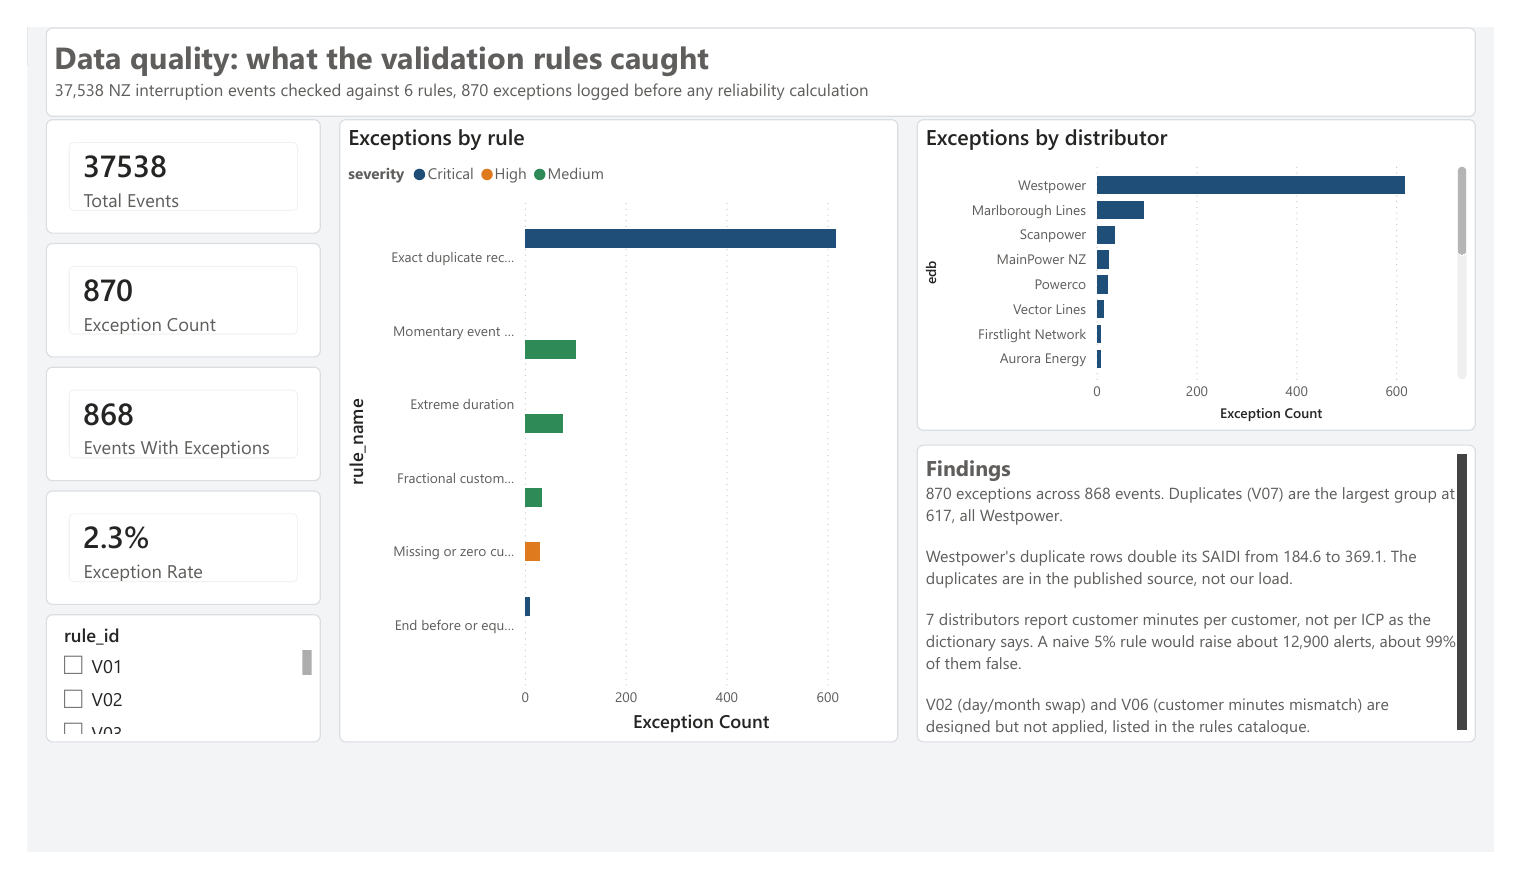

What the dashboard file says about the page in this screenshot:
{"tool":"powerbi","page":{"name":"Data Quality","canvas":[1280,720],"ordinal":0},"visuals":[{"type":"cardVisual","fields":{"Data":["Events.Total Events"]},"box":[16,80,240,100],"z":0},{"type":"cardVisual","fields":{"Data":["Exceptions.Exception Count"]},"box":[16,188,240,100],"z":1},{"type":"cardVisual","fields":{"Data":["Exceptions.Events With Exceptions"]},"box":[16,296,240,100],"z":2},{"type":"cardVisual","fields":{"Data":["Exceptions.Exception Rate"]},"box":[16,404,240,100],"z":3},{"type":"clusteredBarChart","title":"Exceptions by rule\t","fields":{"Category":["Rules.rule_name"],"Y":["Exceptions.Exception Count"],"Series":["Rules.severity"]},"box":[272,80,488,544],"z":4},{"type":"clusteredBarChart","title":"Exceptions by distributor\t","fields":{"Category":["Events.edb"],"Y":["Exceptions.Exception Count"]},"box":[776,80,488,272],"z":5},{"type":"slicer","fields":{"Values":["Rules.rule_id"]},"box":[16,512,240,112],"z":6},{"type":"textbox","box":[16,0,1248,78],"z":7},{"type":"textbox","box":[776,364,488,260],"z":8}]}

Visuals, with their boxes in screenshot pixels (x1, y1, x2, y2), scaled from the page's 1280x720 canvas onto the 1522x880 screenshot:
cardVisual - Events.Total Events: <bbox>19, 98, 304, 220</bbox>
cardVisual - Exceptions.Exception Count: <bbox>19, 230, 304, 352</bbox>
cardVisual - Exceptions.Events With Exceptions: <bbox>19, 362, 304, 484</bbox>
cardVisual - Exceptions.Exception Rate: <bbox>19, 494, 304, 616</bbox>
"Exceptions by rule	" clusteredBarChart: <bbox>323, 98, 904, 763</bbox>
"Exceptions by distributor	" clusteredBarChart: <bbox>923, 98, 1503, 430</bbox>
slicer - Rules.rule_id: <bbox>19, 626, 304, 763</bbox>
textbox: <bbox>19, 0, 1503, 95</bbox>
textbox: <bbox>923, 445, 1503, 763</bbox>
